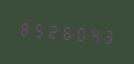eight: (17, 15, 30, 40)
five: (31, 16, 44, 42)
four: (87, 21, 100, 46)
six: (59, 19, 72, 44)
three: (101, 23, 114, 48)
two: (45, 18, 58, 43)
zero: (73, 20, 86, 45)
